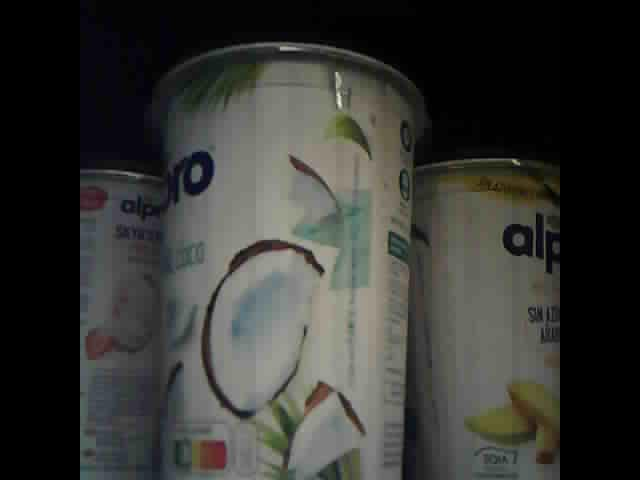alpro: (145, 41, 426, 480), (409, 155, 560, 480), (81, 161, 166, 479)
